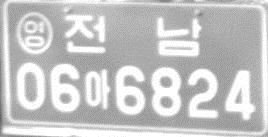0: (14, 61, 46, 112)
2: (186, 67, 219, 119)
4: (224, 69, 255, 120)
6: (48, 62, 81, 113), (114, 65, 146, 115)
8: (150, 65, 182, 118)
아: (84, 68, 111, 110)
영: (15, 11, 54, 56)
전남_D: (64, 13, 201, 57)
